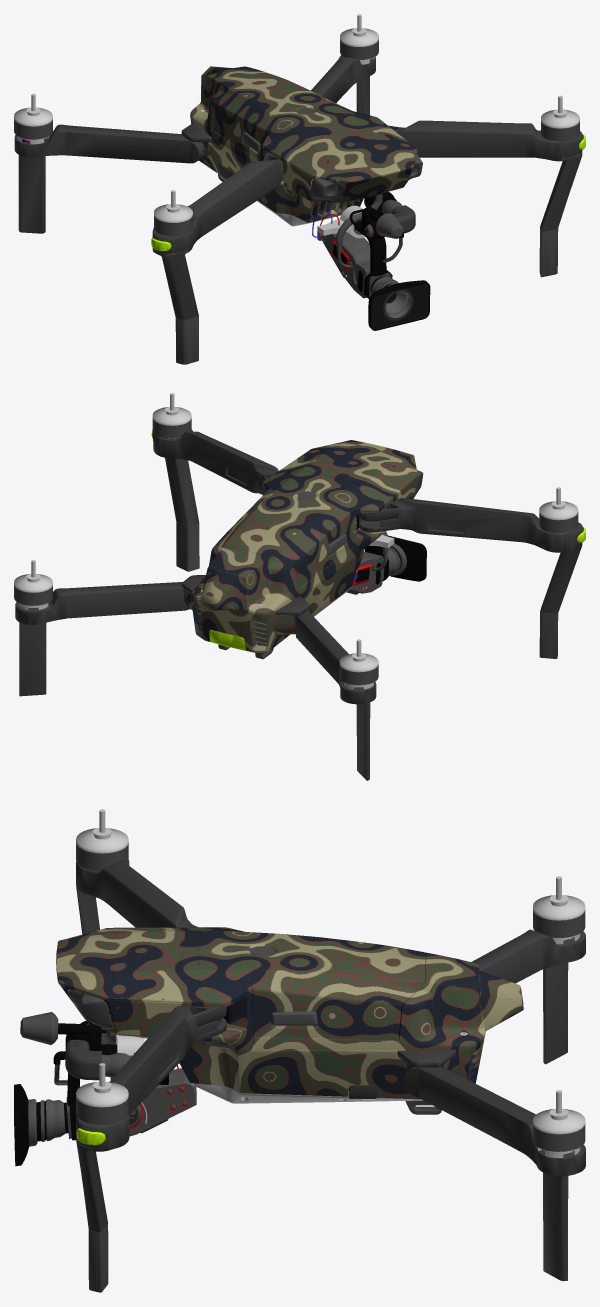
The model's file is Drone.fbx.
The picture shows the model from 3 angles, top to bottom: view 1: azimuth 30°, elevation 25°; view 2: azimuth 150°, elevation 25°; view 3: azimuth 270°, elevation 25°; orthographic projection. The views are drawn at different scales.
Parts seen in each view (by area): view 1: Drone, Cam; view 2: Drone, Cam; view 3: Drone, Cam.
Part boxes in pixels (x1=…): Drone: x1=14, y1=14, x2=585, y2=364; Cam: x1=312, y1=191, x2=430, y2=330; Drone: x1=14, y1=393, x2=585, y2=780; Cam: x1=346, y1=531, x2=426, y2=594; Drone: x1=56, y1=809, x2=585, y2=1292; Cam: x1=14, y1=1012, x2=196, y2=1166.
Size of the model in its own units: 114 by 43.67 by 97.81.
